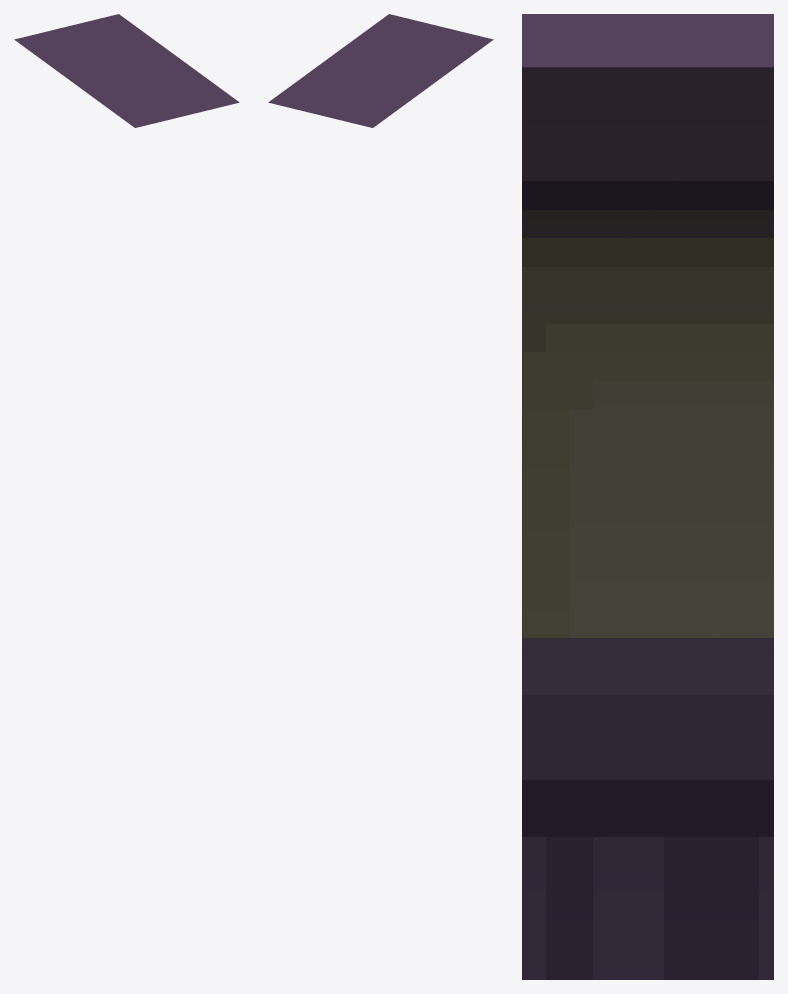
3 views of the same model, side by side, from view 1: azimuth 30°, elevation 25°; view 2: azimuth 150°, elevation 25°; view 3: azimuth 270°, elevation 25° (orthographic). The views are drawn at different scales.
Size of the model in its own units: 0.5 by 4 by 1.
2 materials, 2 textured.
